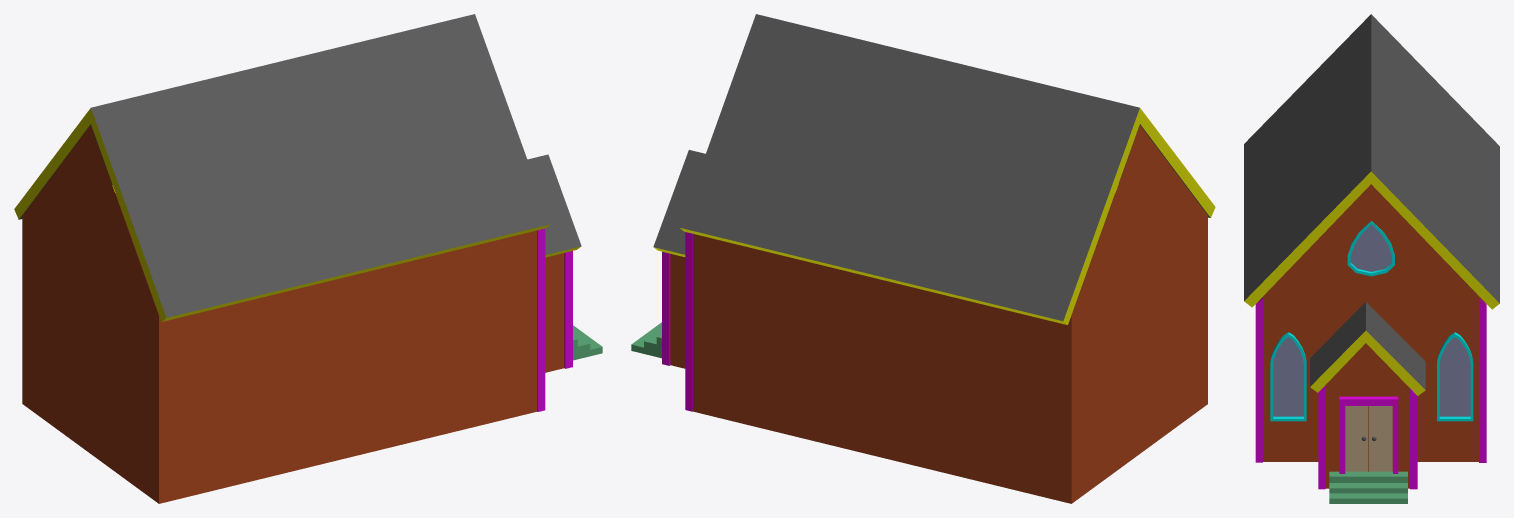
Rendered from house_BlueRed.fbx.
3 renders of one model, left to right at view 1: azimuth 30°, elevation 25°; view 2: azimuth 150°, elevation 25°; view 3: azimuth 270°, elevation 25°, orthographic. The views are drawn at different scales.
Visible parts, largest first — view 1: polySurface129, polySurface121, polySurface115, polySurface125, polySurface132, polySurface119, polySurface123; view 2: polySurface129, polySurface121, polySurface115, polySurface125, polySurface133, polySurface120, polySurface123; view 3: polySurface121, polySurface129, polySurface125, polySurface115, polySurface123, polySurface130, polySurface126, polySurface127, pCube57, polySurface133, polySurface132, polySurface119 (+1 smaller).
Boxes of the visible parts, left/top/right/bottom form: polySurface129: left=22, top=125, right=537, bottom=503; polySurface121: left=14, top=14, right=550, bottom=321; polySurface115: left=527, top=154, right=581, bottom=257; polySurface125: left=545, top=253, right=564, bottom=372; polySurface132: left=537, top=228, right=545, bottom=411; polySurface119: left=564, top=251, right=572, bottom=368; polySurface123: left=573, top=325, right=602, bottom=360; polySurface129: left=693, top=125, right=1207, bottom=503; polySurface121: left=679, top=14, right=1215, bottom=324; polySurface115: left=653, top=150, right=705, bottom=256; polySurface125: left=670, top=253, right=685, bottom=368; polySurface133: left=685, top=232, right=692, bottom=411; polySurface120: left=662, top=251, right=670, bottom=365; polySurface123: left=631, top=322, right=661, bottom=358; polySurface121: left=1244, top=14, right=1499, bottom=309; polySurface129: left=1257, top=184, right=1485, bottom=461; polySurface125: left=1325, top=343, right=1409, bottom=488; polySurface115: left=1310, top=302, right=1425, bottom=395; polySurface123: left=1329, top=471, right=1407, bottom=503; polySurface130: left=1270, top=221, right=1473, bottom=440; polySurface126: left=1345, top=406, right=1368, bottom=471; polySurface127: left=1369, top=406, right=1392, bottom=471; pCube57: left=1339, top=396, right=1398, bottom=473; polySurface133: left=1479, top=297, right=1486, bottom=462; polySurface132: left=1255, top=298, right=1262, bottom=462; polySurface119: left=1318, top=385, right=1325, bottom=489.
Size of the model in its own units: 32.97 by 22.41 by 17.87.
